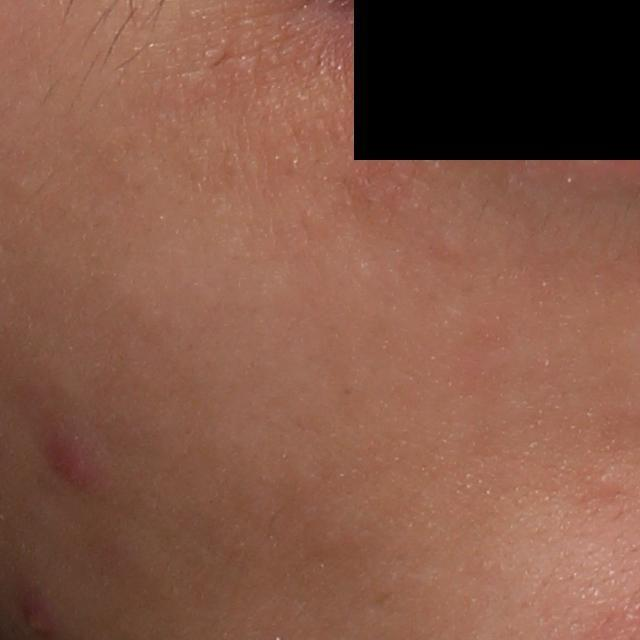papule: (41, 428, 95, 494)
